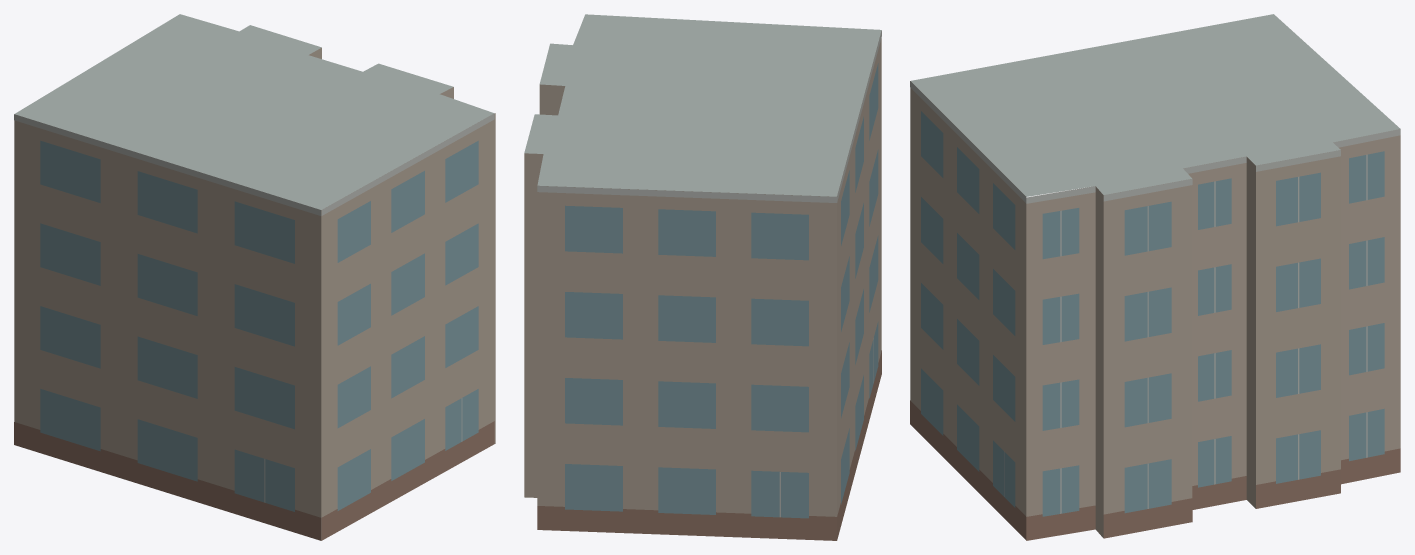
The model's file is survey-upis-32783104.glb.
3 renders of one model, left to right at view 1: azimuth 30°, elevation 25°; view 2: azimuth 150°, elevation 25°; view 3: azimuth 270°, elevation 25°, orthographic. The views are drawn at different scales.
Visible parts, largest first — view 1: survey-upis-32783104.tmp; view 2: survey-upis-32783104.tmp; view 3: survey-upis-32783104.tmp.
Part boxes in pixels (<box>): survey-upis-32783104.tmp: <box>14,14,495,540</box>; survey-upis-32783104.tmp: <box>524,14,881,540</box>; survey-upis-32783104.tmp: <box>910,14,1400,540</box>.
Size of the model in its own units: 15.08 by 13.15 by 17.03.
